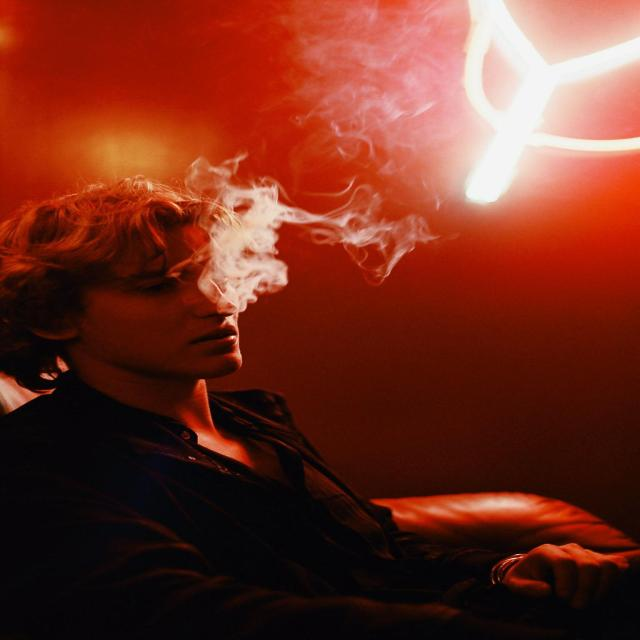smoking: (35, 109, 347, 424)
